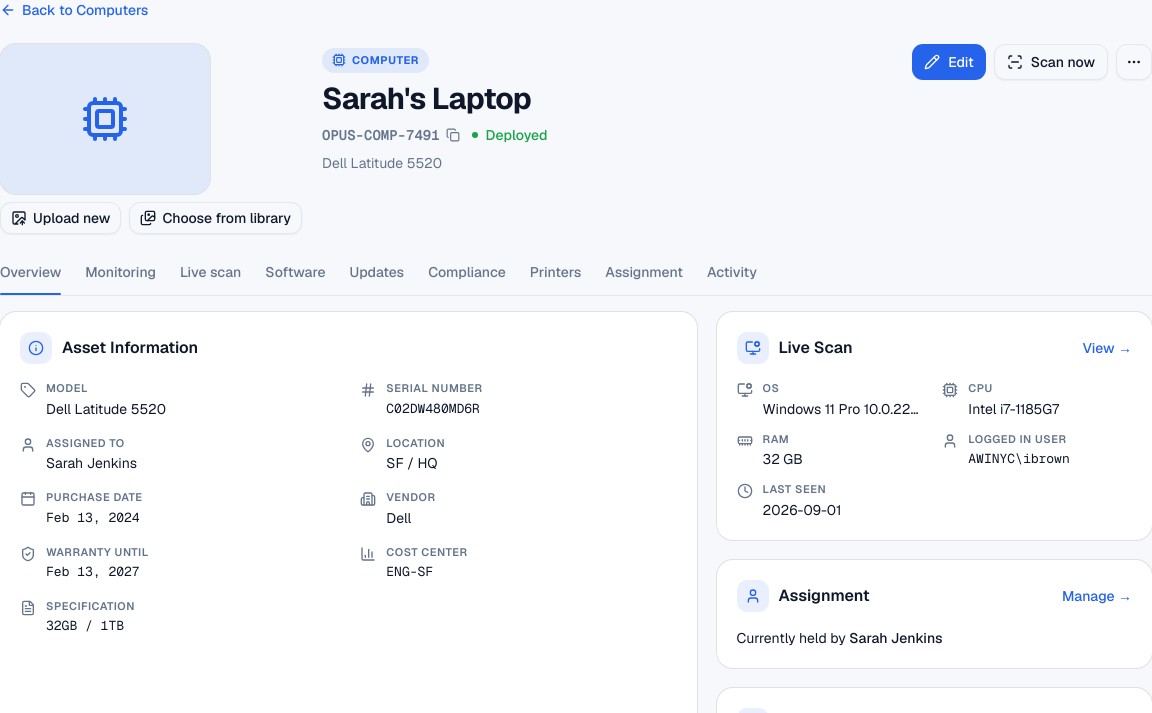
Test case: ComputerDetail — tabs + content (AC-4.2, AC-4.3) › loads a recent job result when that job is clicked
Step 1. Click the tab "Monitoring" → [121, 277], box [85,258,156,296]
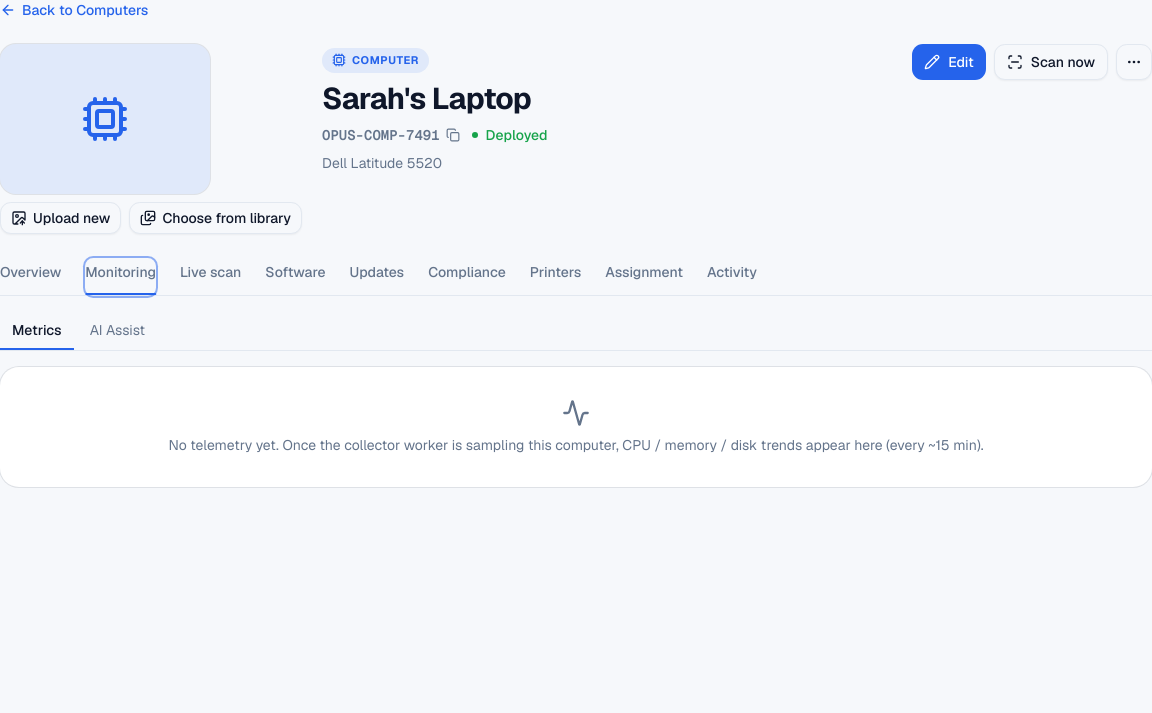
Step 2. Click the tab "AI Assist" → [117, 331], box [78,312,157,350]
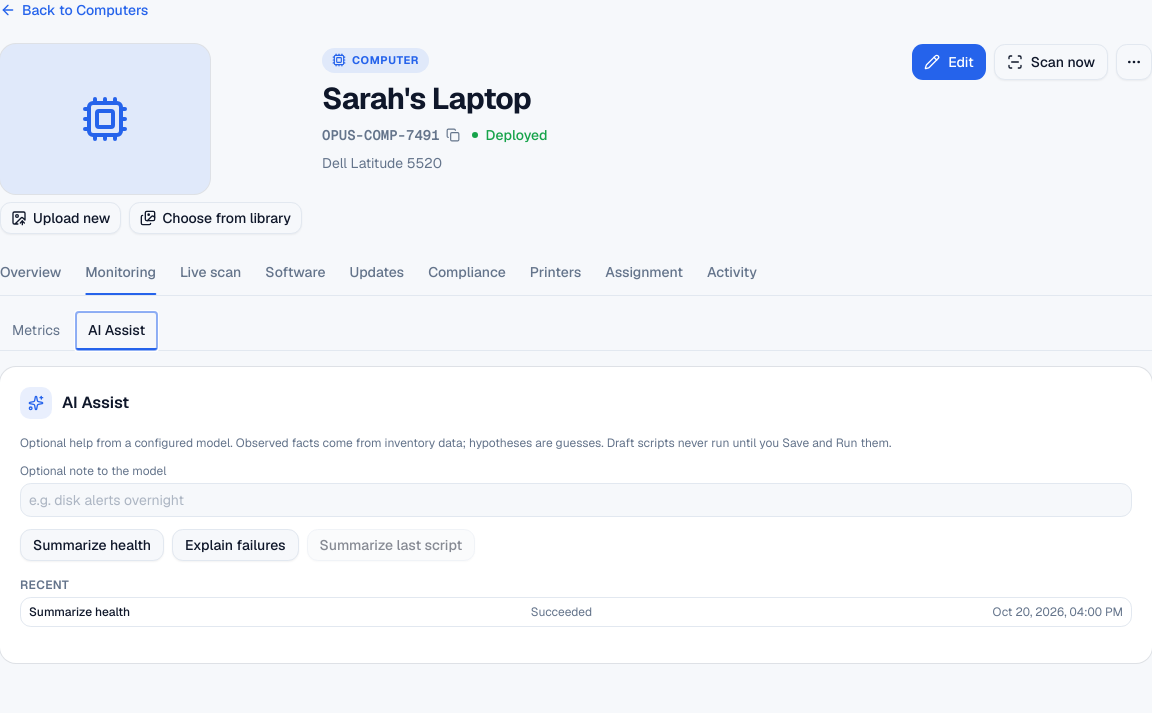
Expected: the text "Patch lag" is not shown
Step 3. Click the button with aria-label "Recent: Summarize health, Succeeded" → [576, 612], box [20,597,1132,627]
(page scrolled)
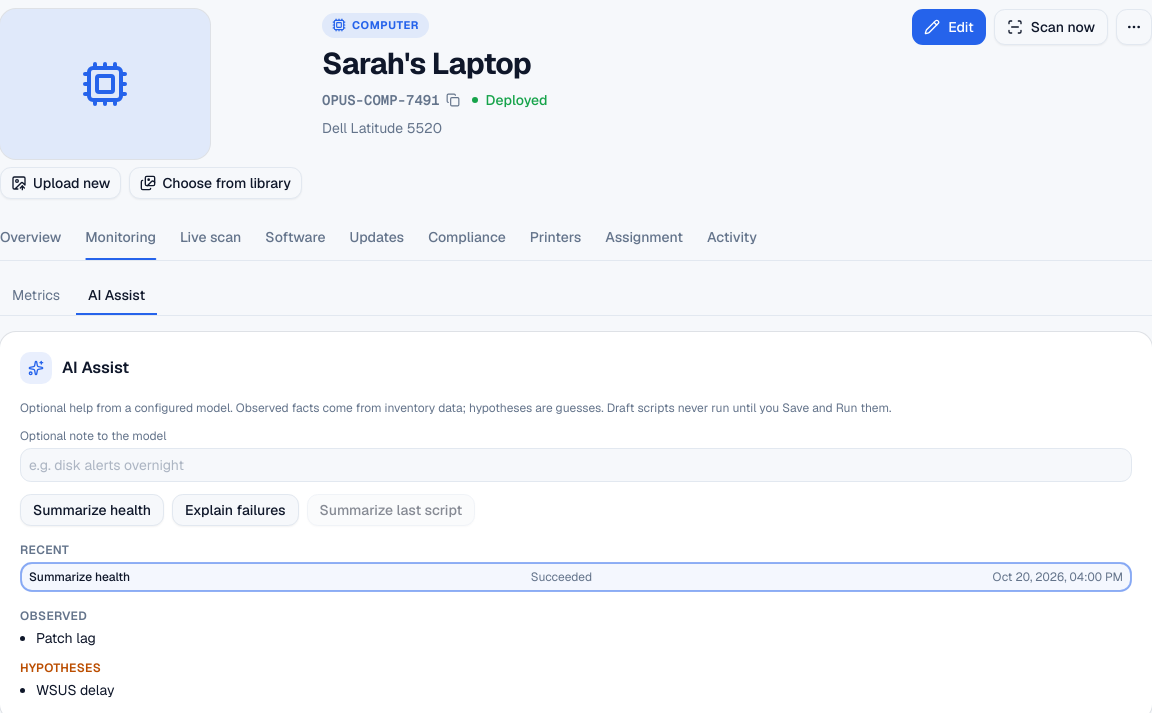
Result: the list item "Patch lag" is shown at [36,629,96,647]
Result: the list item "WSUS delay" is shown at [36,681,114,699]
